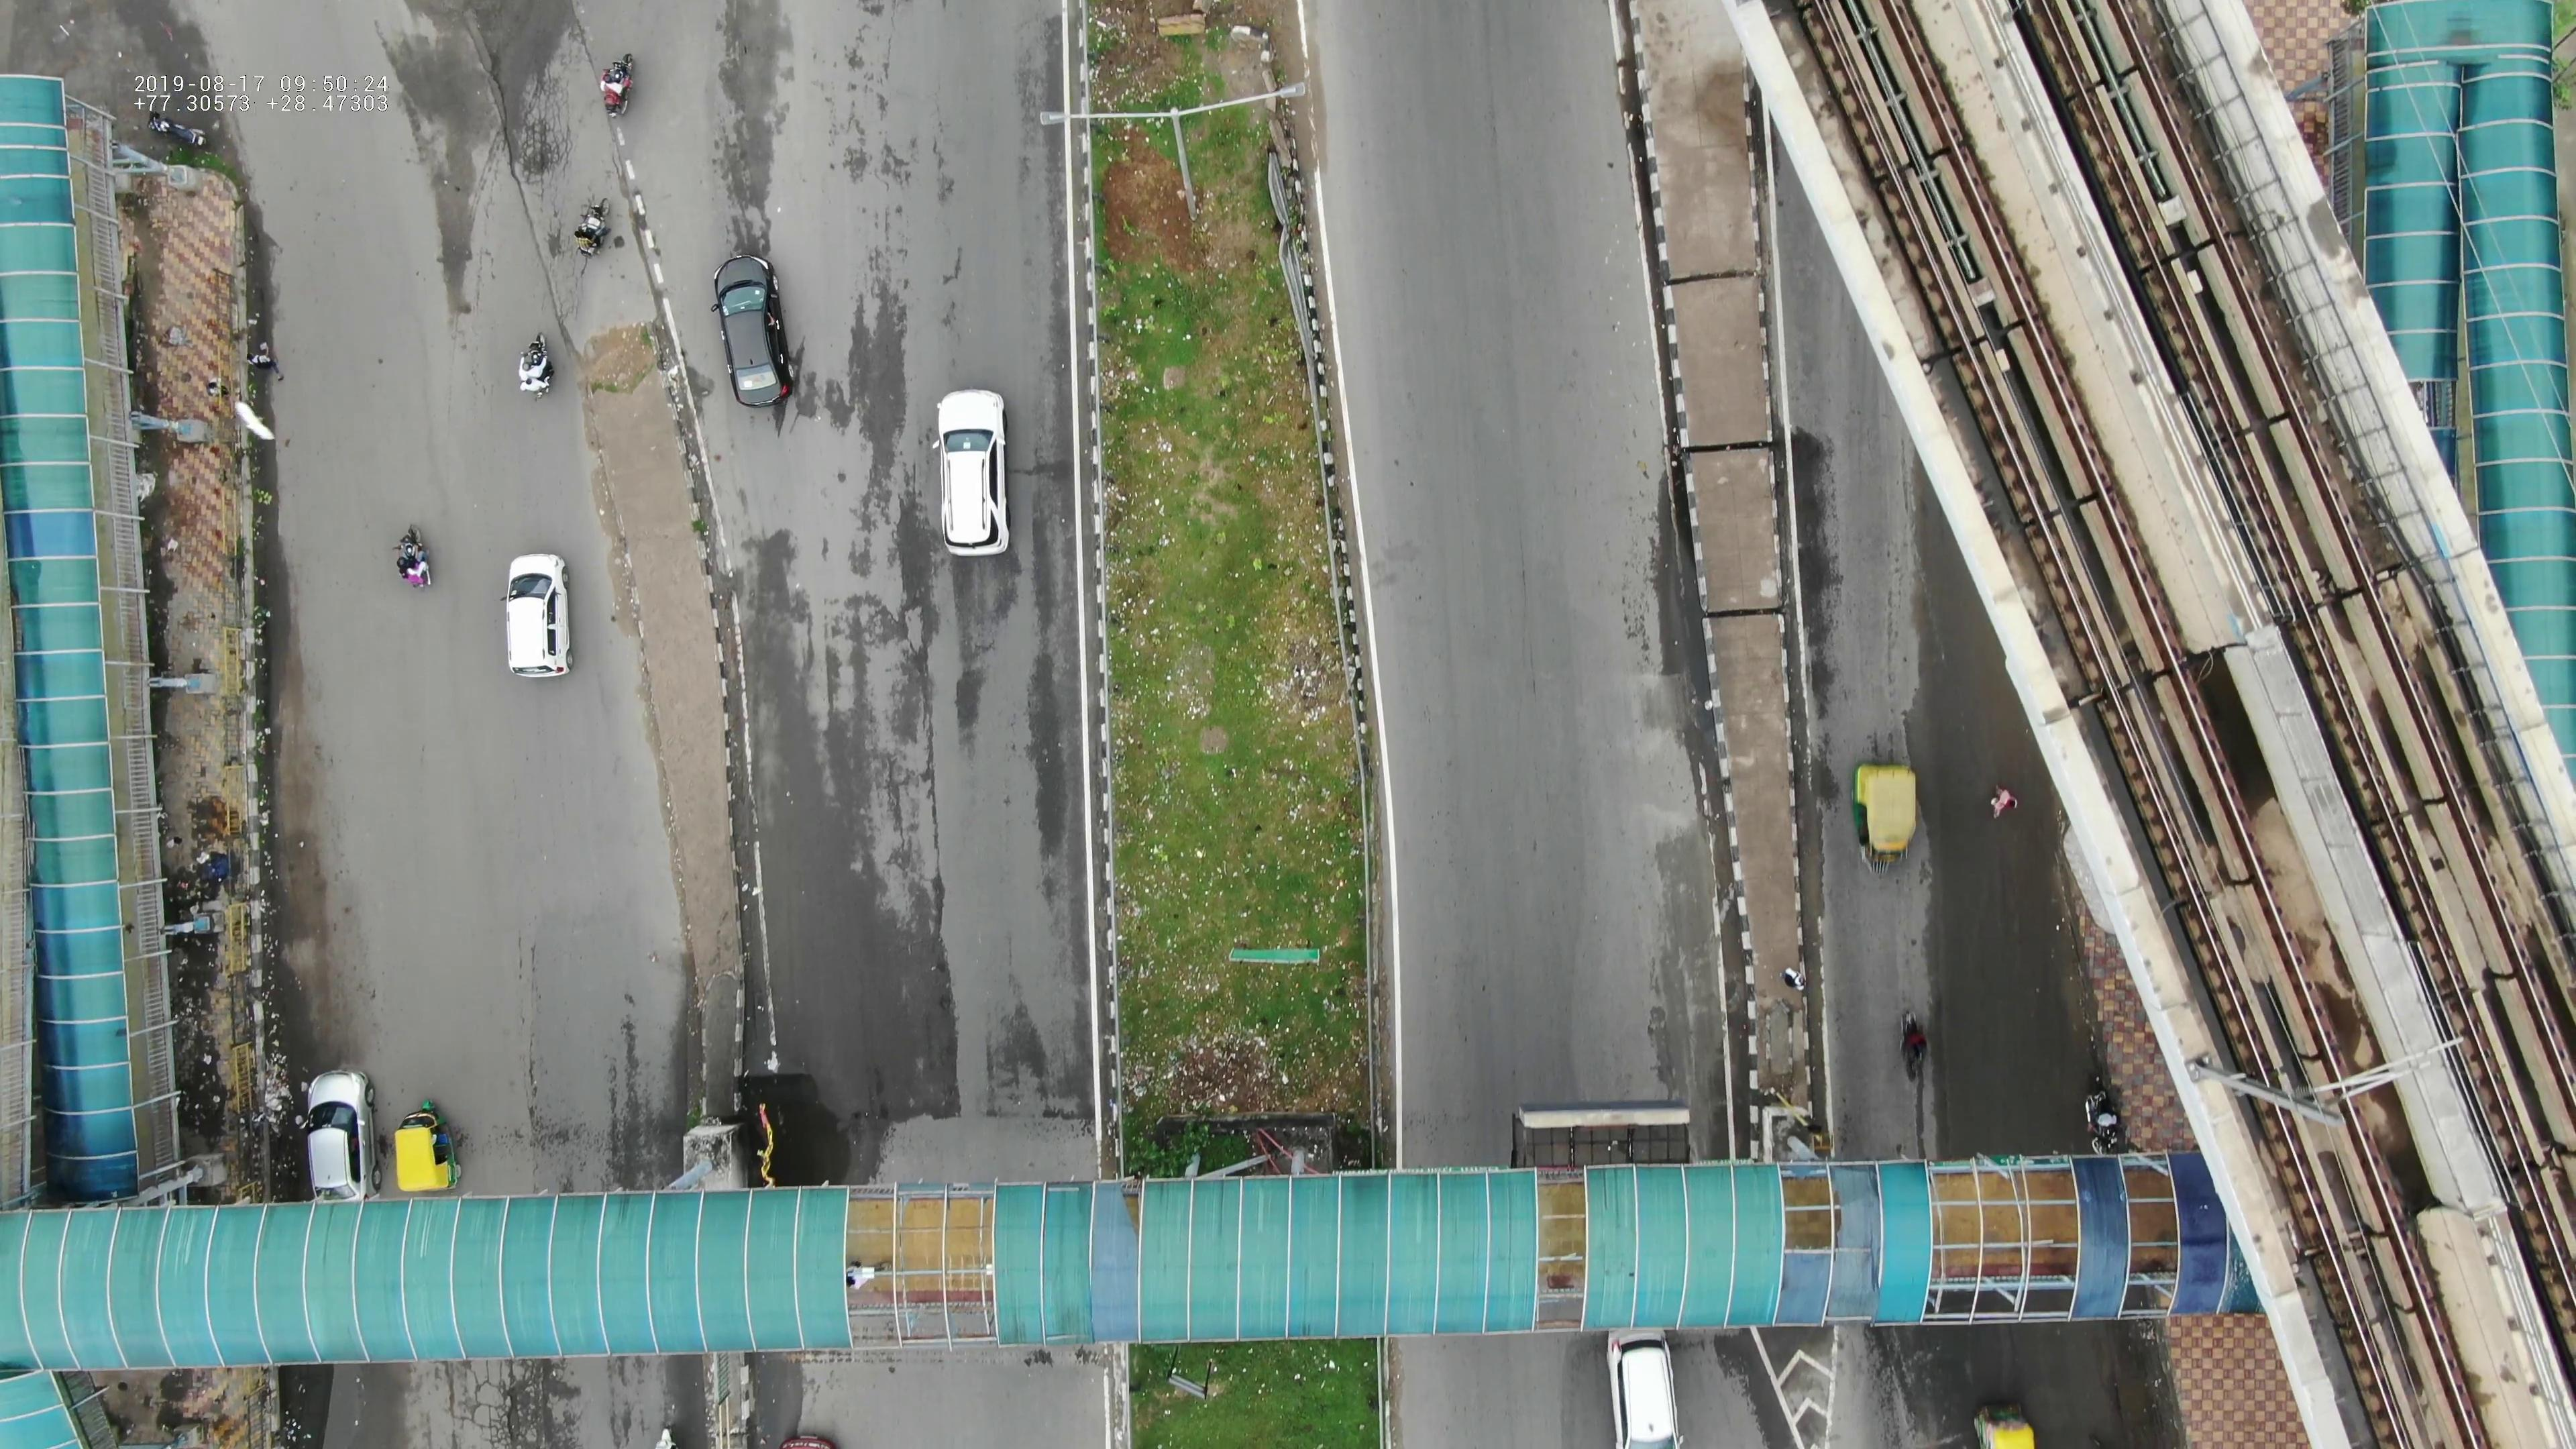Alligator_cracks: (814, 41, 964, 205)
